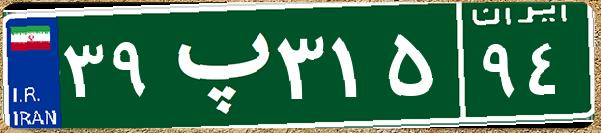1: (330, 28, 385, 110)
3: (273, 28, 330, 110), (57, 26, 110, 107)
4: (525, 38, 570, 115)
5: (385, 28, 445, 110)
9: (475, 38, 525, 113), (110, 28, 158, 105)
پ: (158, 15, 273, 115)
